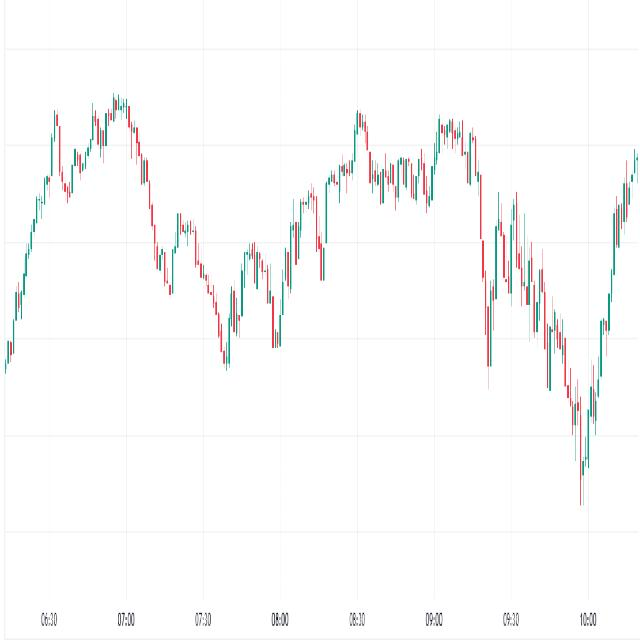Channel-down: (482, 155, 611, 532)
Rising-Wedge: (192, 92, 378, 487)
